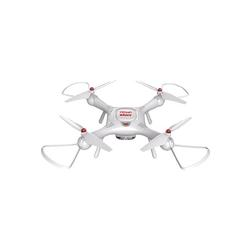drone: (41, 80, 211, 173)
